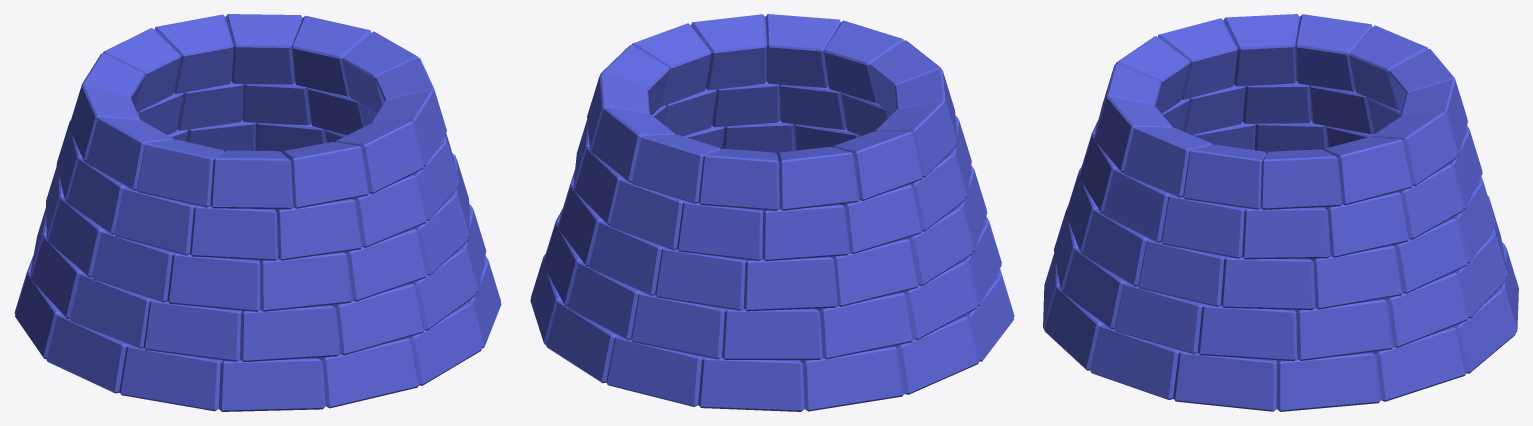
The model's file is Well_BETA.fbx.
3 renders of one model, left to right at view 1: azimuth 30°, elevation 25°; view 2: azimuth 150°, elevation 25°; view 3: azimuth 270°, elevation 25°, orthographic.
Parts seen in each view (by area): view 1: Cube; view 2: Cube; view 3: Cube.
Boxes of the visible parts, box(x1,y1,x2,y2) form: Cube: box(14, 14, 501, 411); Cube: box(530, 14, 1014, 411); Cube: box(1043, 14, 1518, 411).
Size of the model in its own units: 1800 by 959 by 1763.
